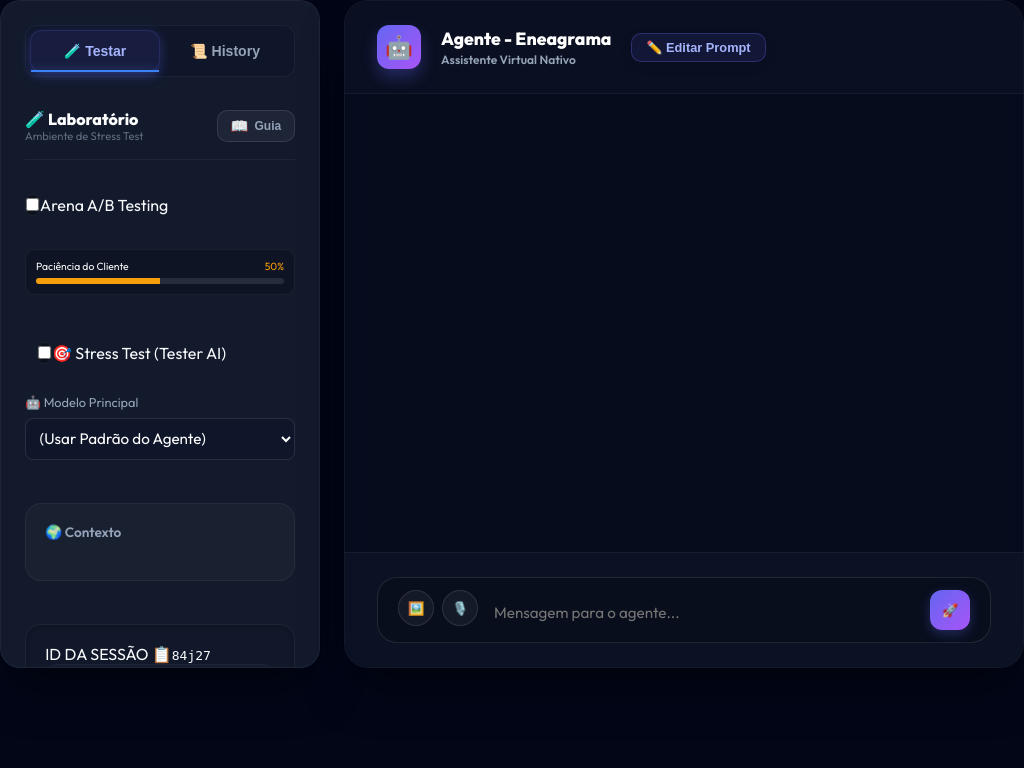
Scenario: ChatPlayground Component › should display the timestamp for messages
Type "Teste de horario" into the text box with placeholder "Mensagem para o agente...". click: [704, 612]
box: [494,595,914,630]
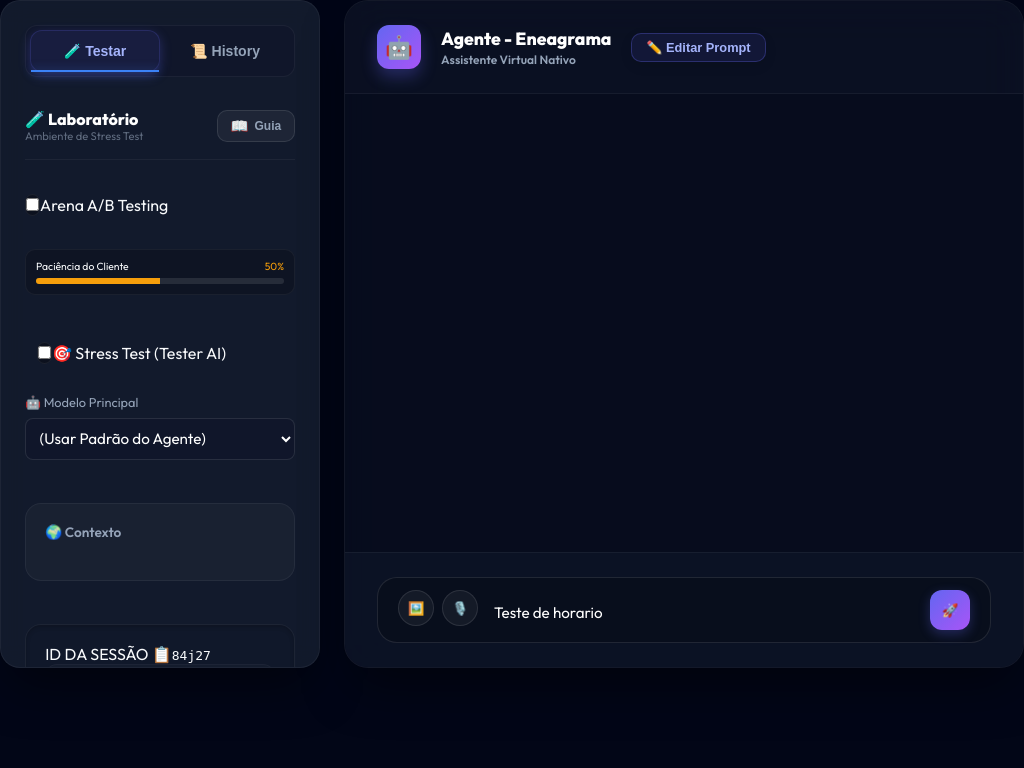
Click the submit button. click: [950, 610]
box: [930,590,970,630]
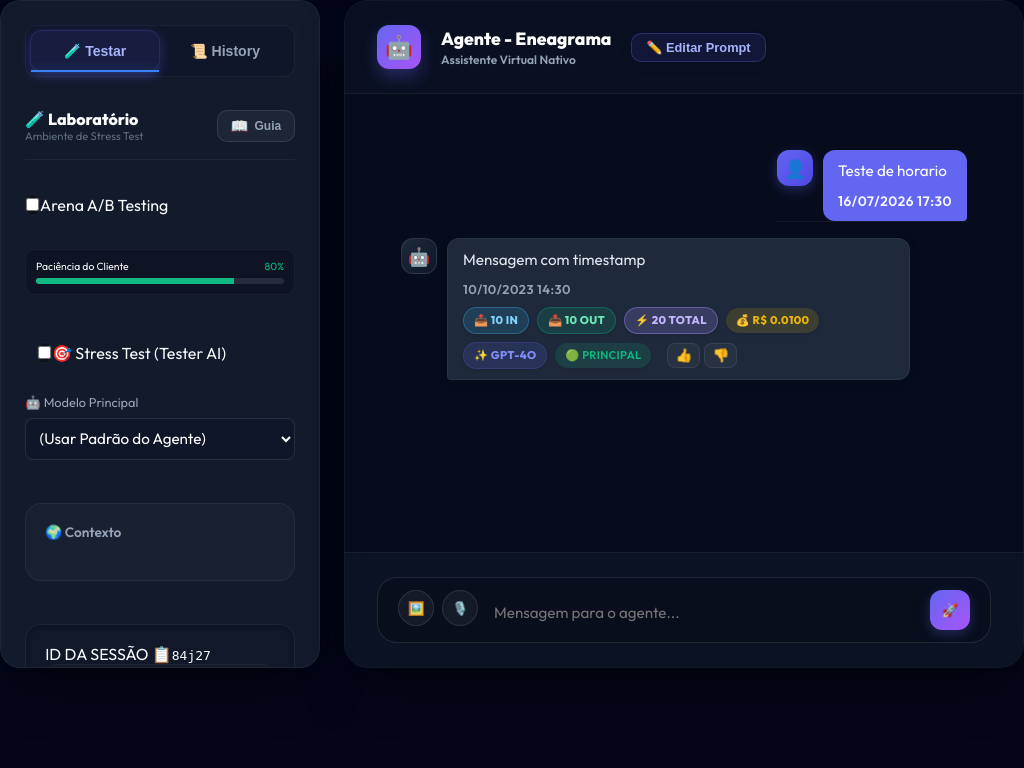
Now the text "Mensagem com timestamp" is shown, box [463,250,645,269]
